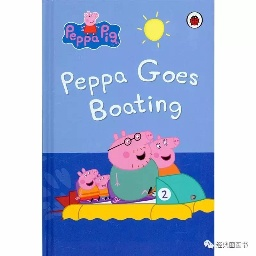Peppa: (75, 168, 99, 204)
